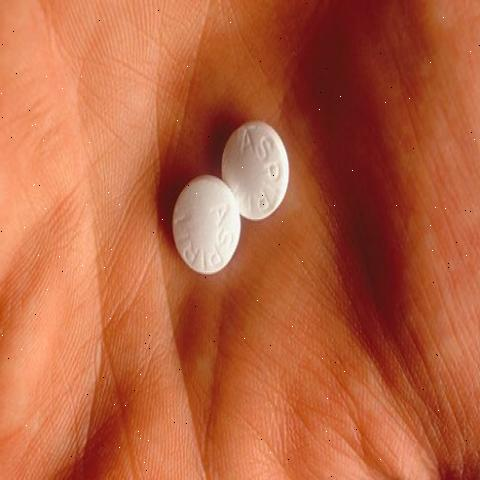Pill: (218, 112, 298, 230), (164, 176, 243, 280)
